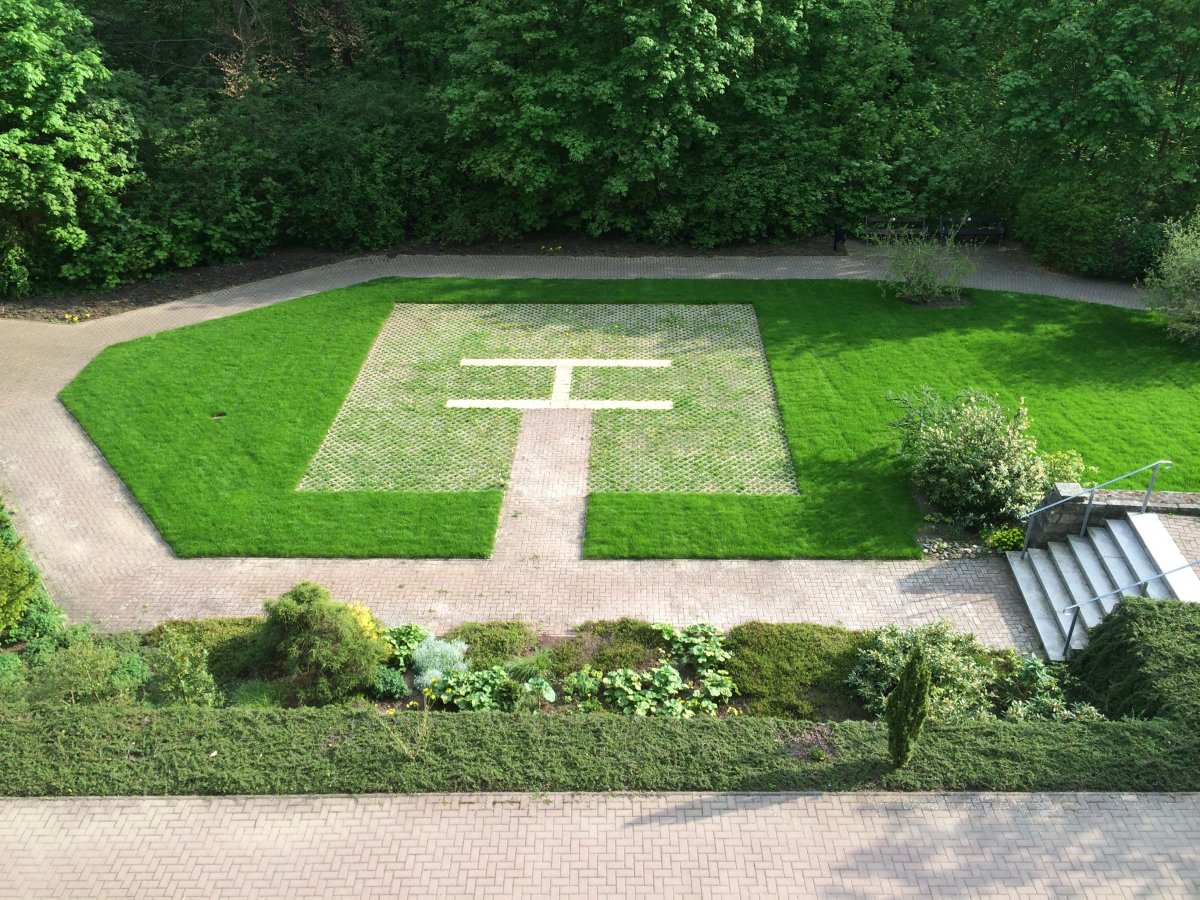H: (447, 358, 674, 412)
